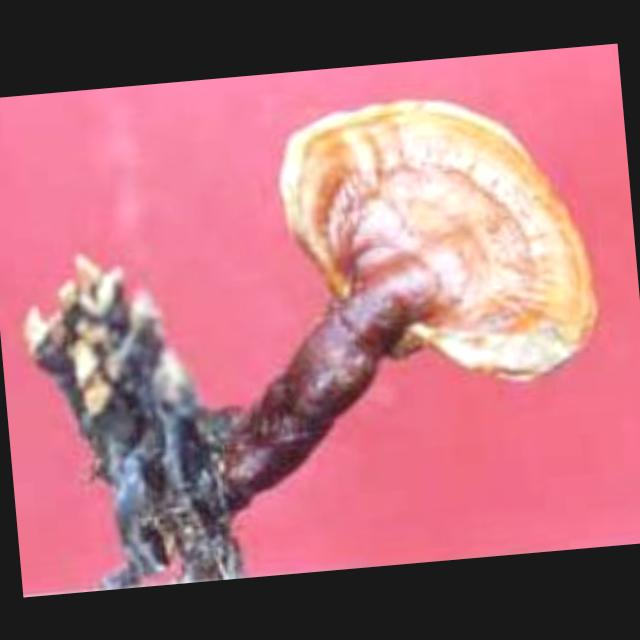ganoderma: (271, 83, 608, 406)
